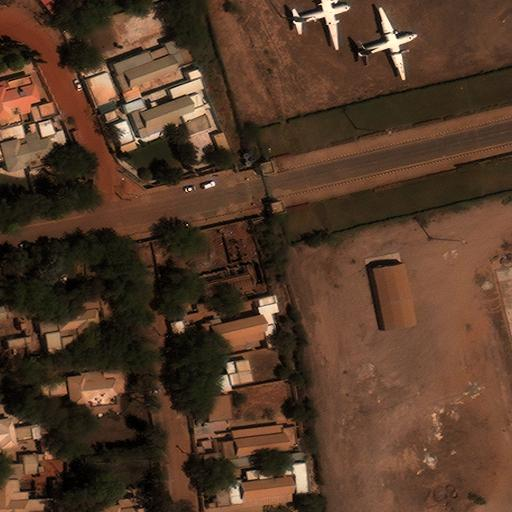Military Transport: (358, 6, 418, 79), (292, 0, 350, 49)
